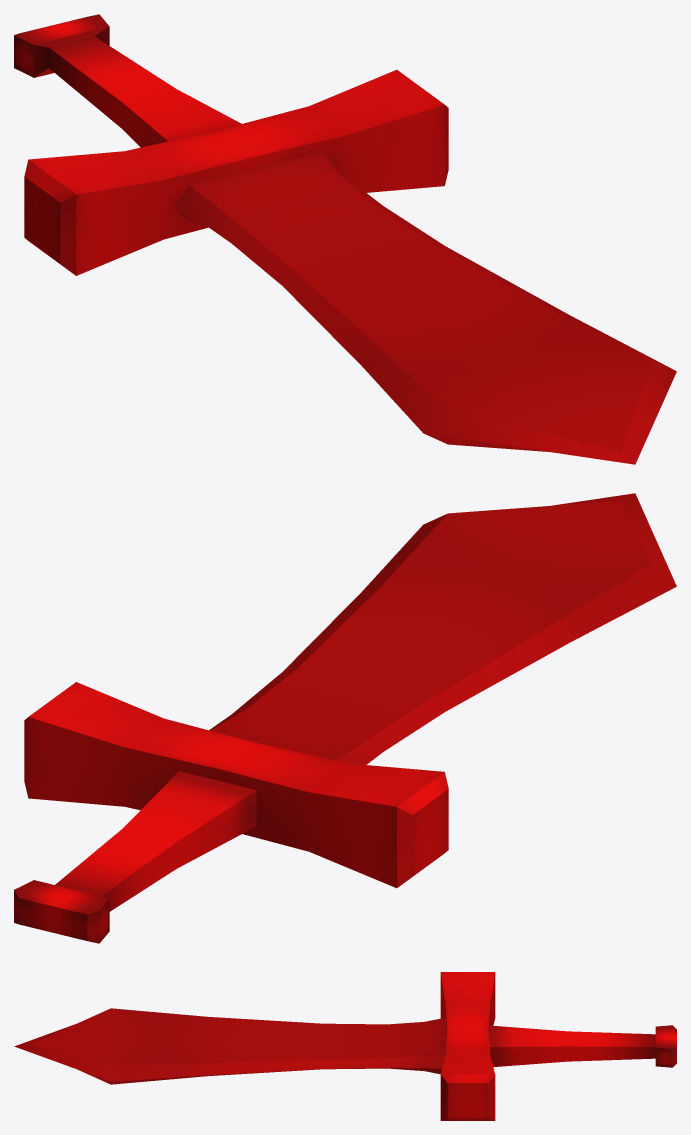
The model's file is M_SwordToyB.glb.
3 renders of one model, top to bottom at view 1: azimuth 30°, elevation 25°; view 2: azimuth 150°, elevation 25°; view 3: azimuth 270°, elevation 25°, orthographic. The views are drawn at different scales.
Parts seen in each view (by area): view 1: SM_SwordToy; view 2: SM_SwordToy; view 3: SM_SwordToy.
Boxes of the visible parts, <box> form: SM_SwordToy: <box>14,14,676,464</box>; SM_SwordToy: <box>14,493,676,943</box>; SM_SwordToy: <box>14,972,676,1120</box>.
Size of the model in its own units: 0.3247 by 0.0651 by 0.8431.
1 material, 1 textured.
